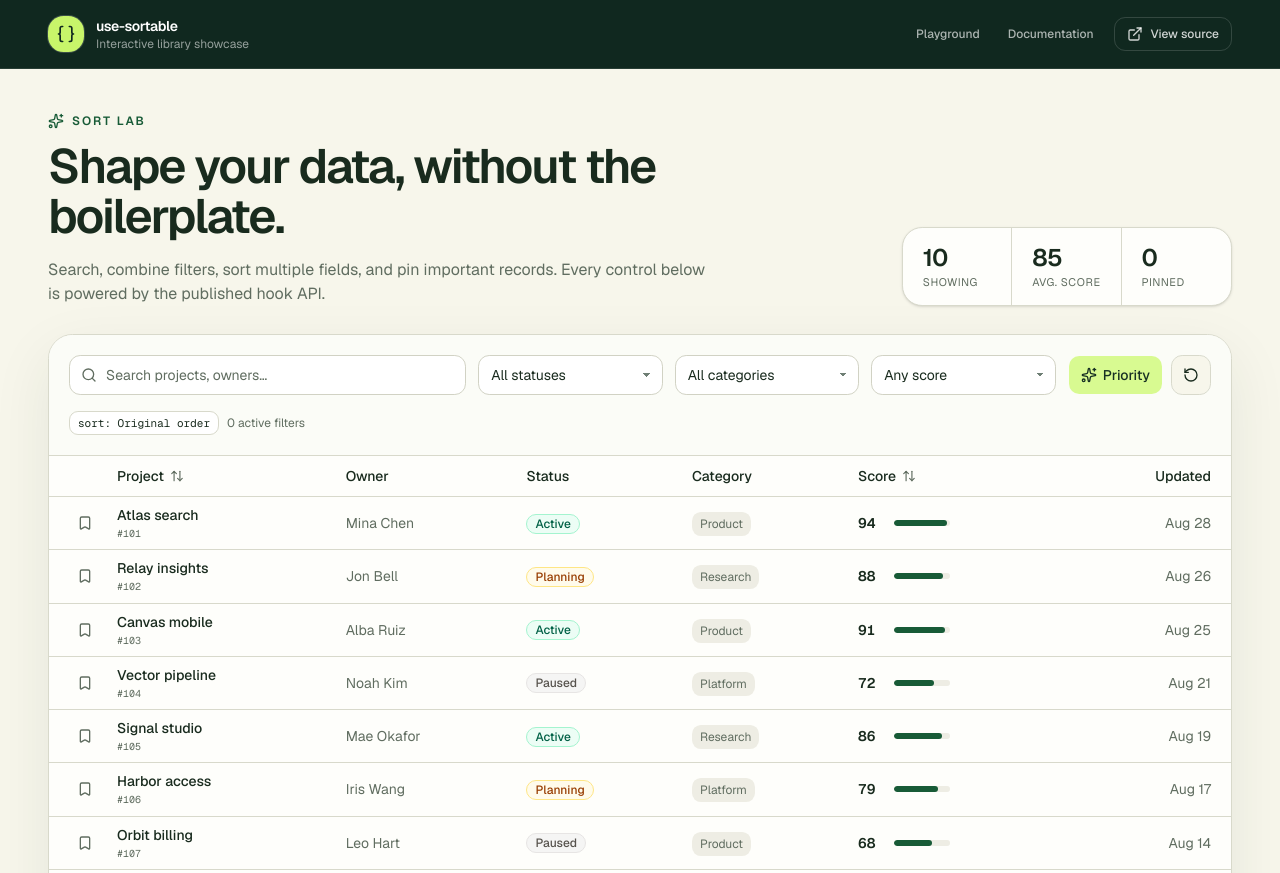
Sort Lab showcase › searches across fields and combines filters
Type "Mina" into the field with placeholder "Search projects, owners…" at (268, 375), box [69,355,466,395]
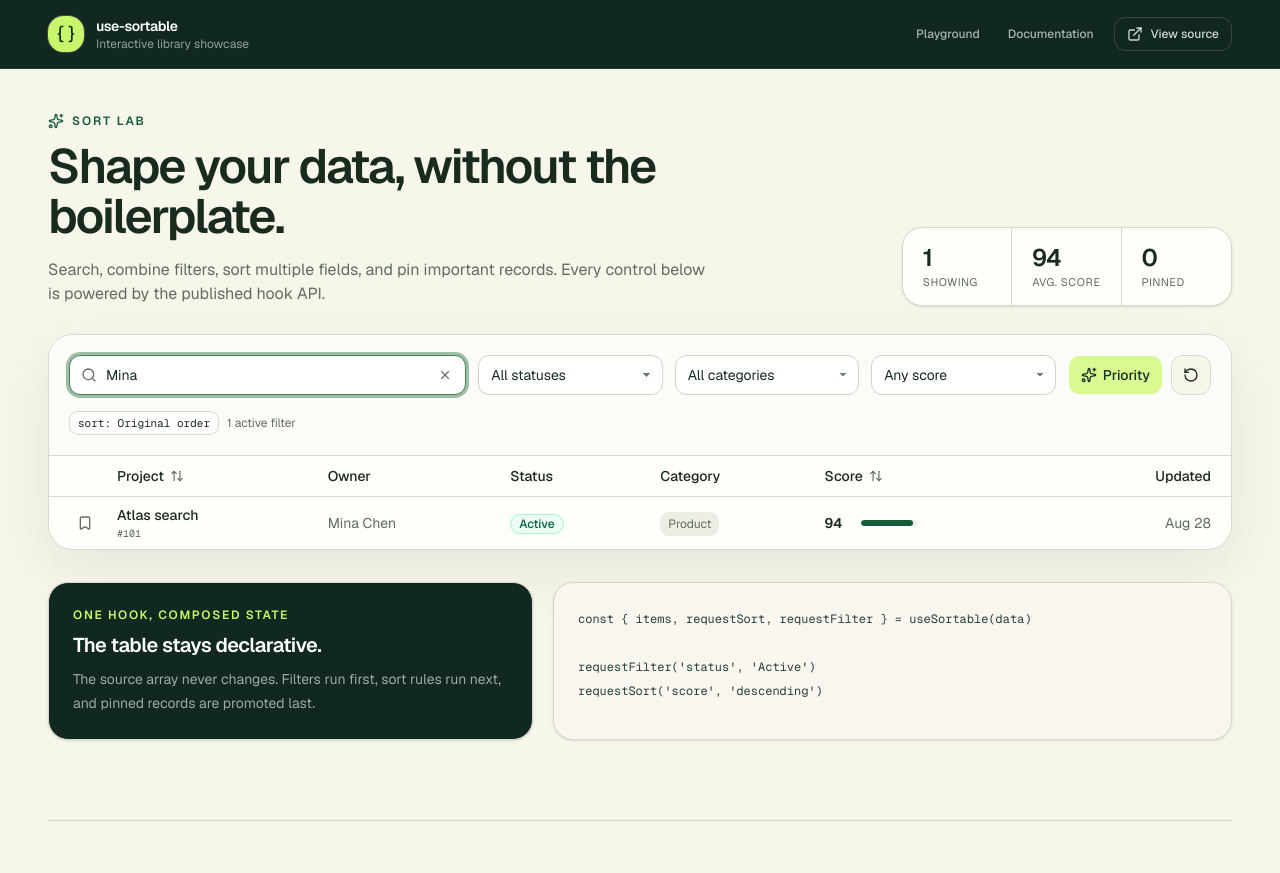
Expected: the text "Atlas search" is shown, [117,506,198,524]
Click the button named "Clear search" at (445, 375), box [434,364,456,386]
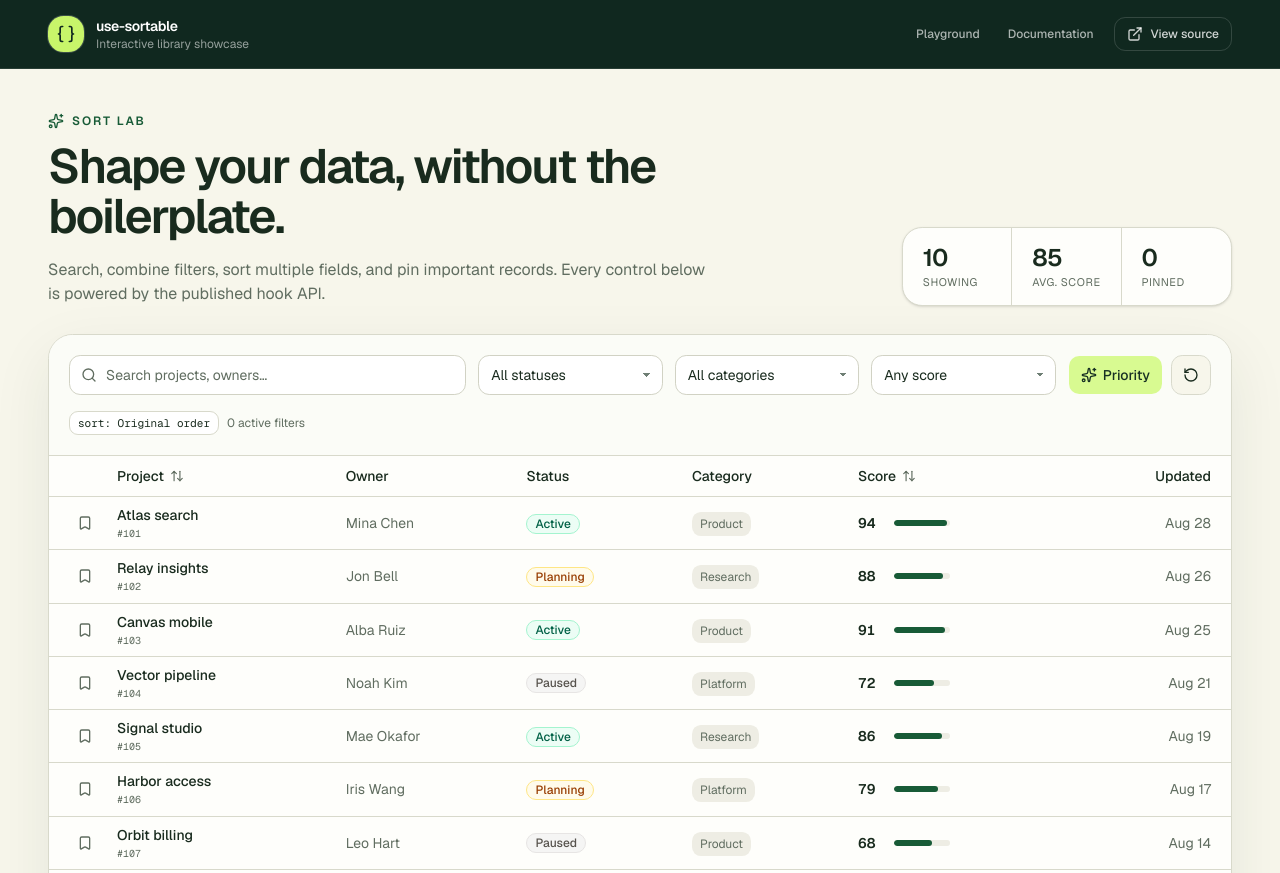
Select "Active" in the 1st dropdown named "Filter by status" at (571, 375), box [478,355,663,395]
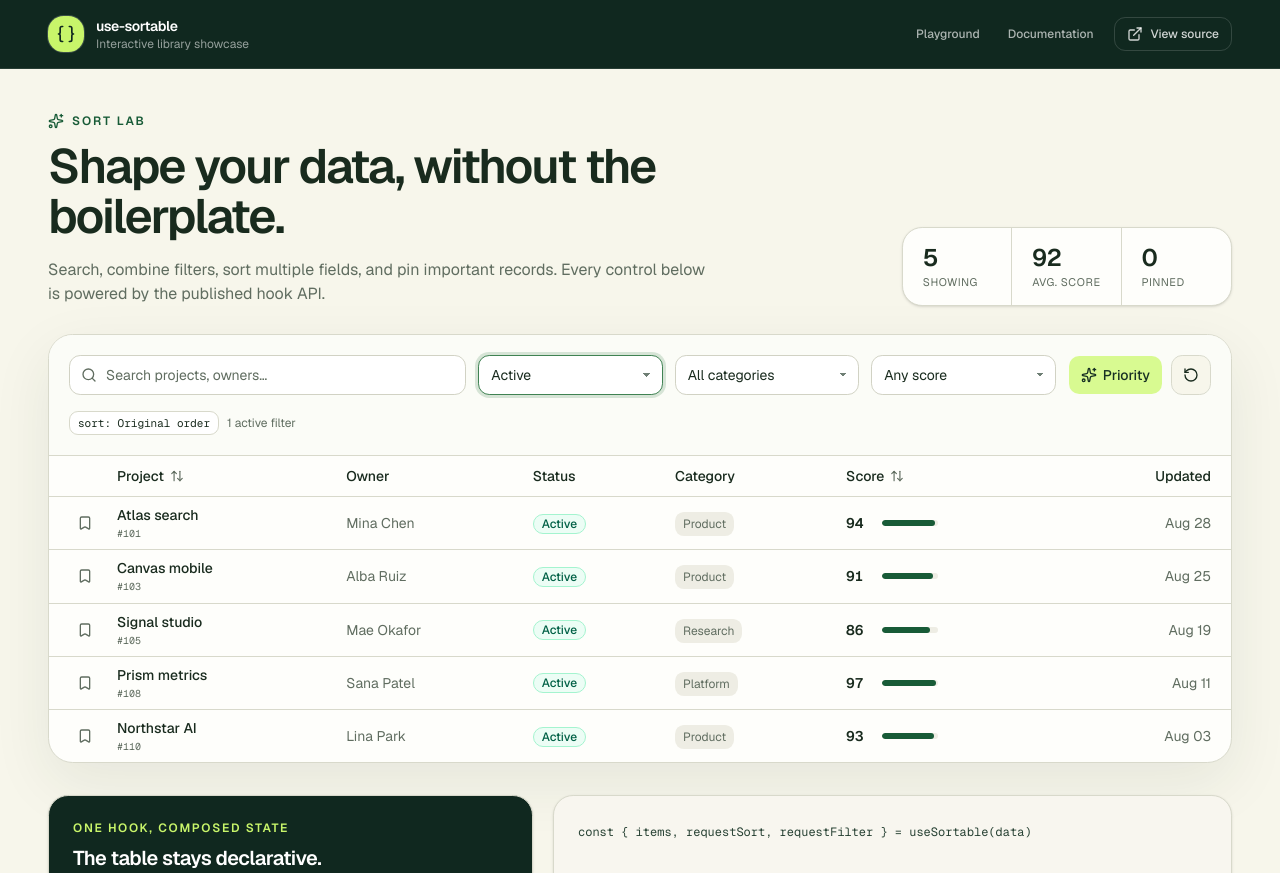
Select "Score 90+" in the 3rd dropdown named "Filter by minimum score" at (964, 375), box [871,355,1056,395]
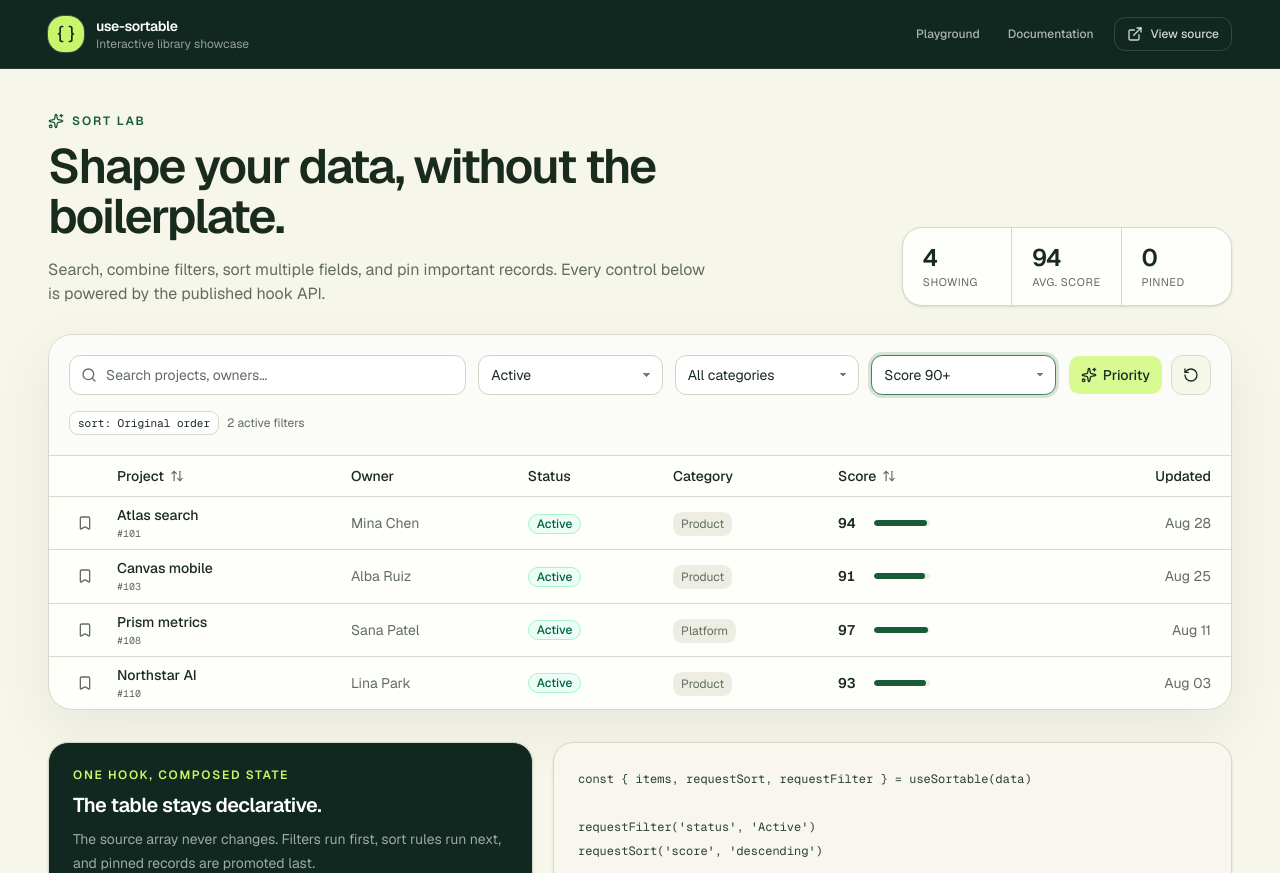
Now the text "Northstar AI" is shown, box [117,666,197,684]
Now the text "Signal studio" is gone
